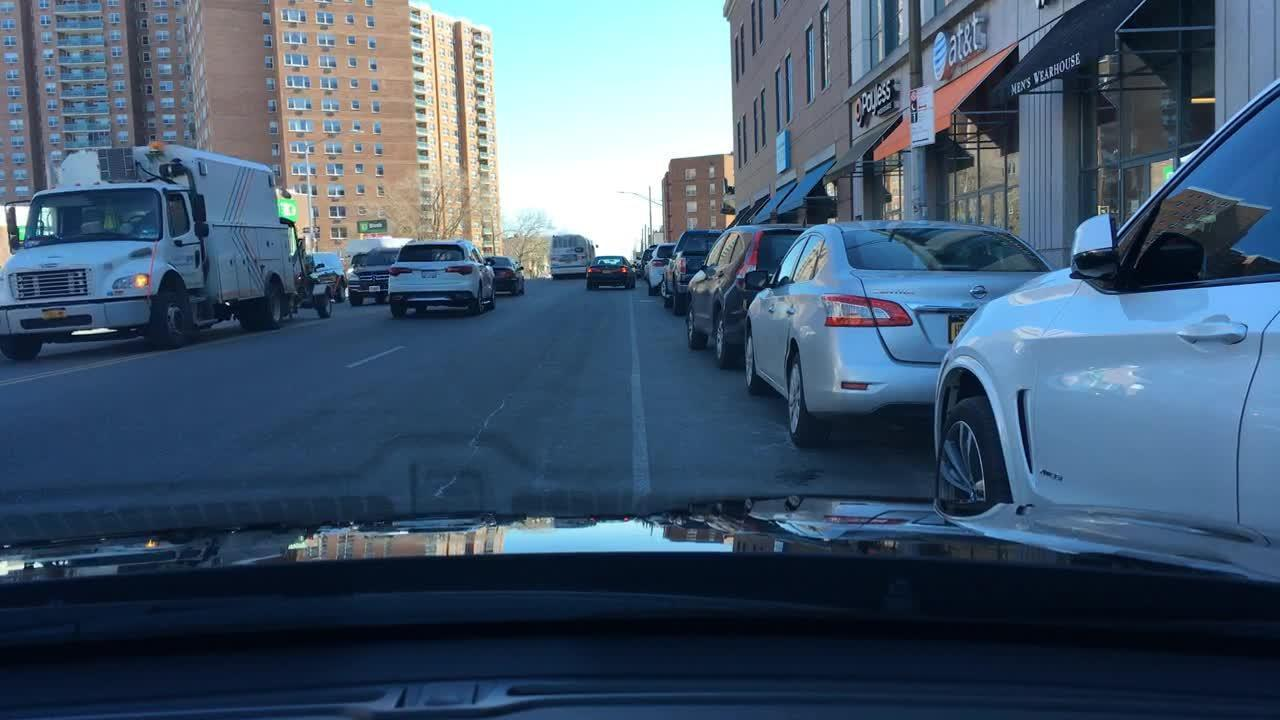Nissan: (966, 277, 992, 302)
